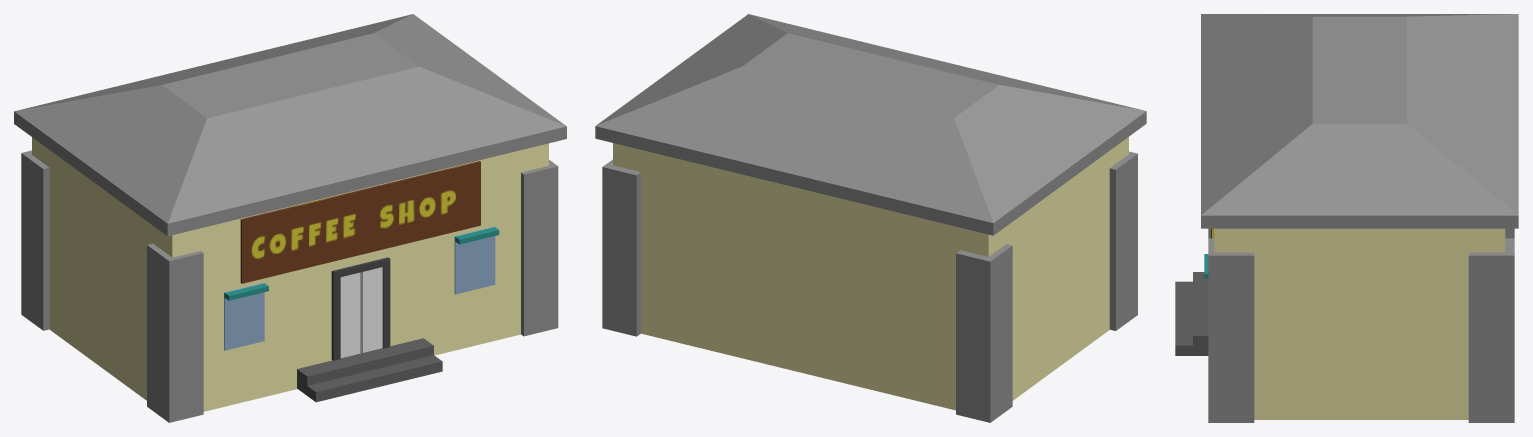
The model's file is Coffee_shop.FBX.
The picture shows the model from 3 angles, left to right: view 1: azimuth 30°, elevation 25°; view 2: azimuth 150°, elevation 25°; view 3: azimuth 270°, elevation 25°; orthographic projection. The views are drawn at different scales.
Visible parts, largest first — view 1: Coffee shop; view 2: Coffee shop; view 3: Coffee shop.
Boxes of the visible parts, x1,y1,x2,y2 form: Coffee shop: (14,14,566,422); Coffee shop: (595,14,1146,422); Coffee shop: (1175,14,1518,422).
Bounding box in the file's own units: 8.52 × 5.03 × 6.14.
1 material, 1 textured.
